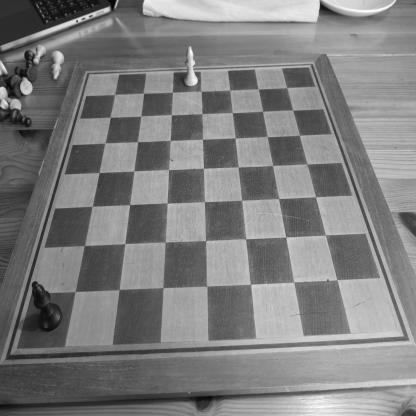black-bishop: (31, 280, 63, 334)
white-bishop: (182, 44, 199, 87)
